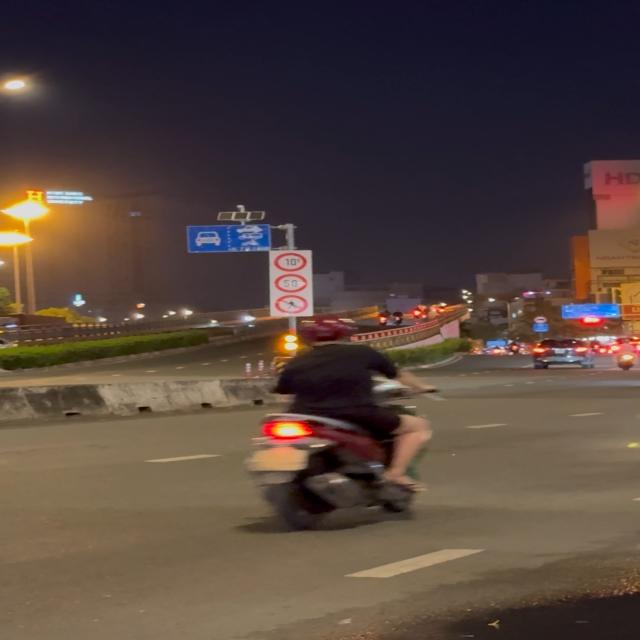Bien bao cam nguoi di bo: (272, 294, 311, 314)
Bien bao toc do toi da cho phep: (274, 273, 310, 293)
